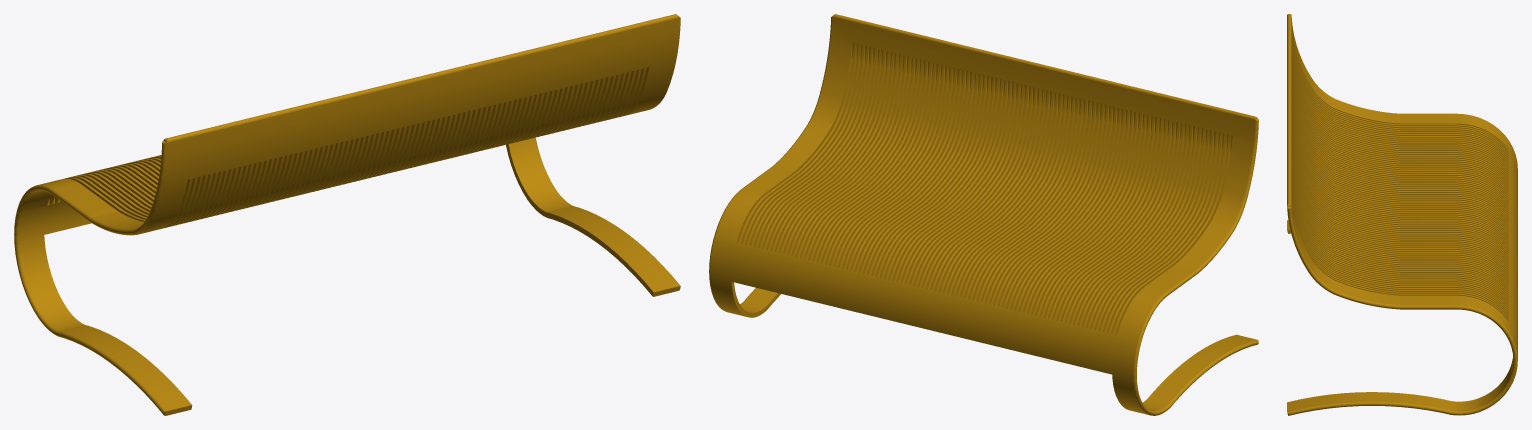
3 views of the same model, side by side, from view 1: azimuth 30°, elevation 25°; view 2: azimuth 150°, elevation 25°; view 3: azimuth 270°, elevation 25° (orthographic). The views are drawn at different scales.
Visible parts, largest first — view 1: mesh1_mesh1-geometry; view 2: mesh1_mesh1-geometry; view 3: mesh1_mesh1-geometry.
Part boxes in pixels (x1=…): mesh1_mesh1-geometry: x1=14, y1=14, x2=680, y2=415; mesh1_mesh1-geometry: x1=709, y1=14, x2=1258, y2=415; mesh1_mesh1-geometry: x1=1287, y1=14, x2=1517, y2=415.
Size of the model in its own units: 0.8124 by 0.4143 by 0.4102.
